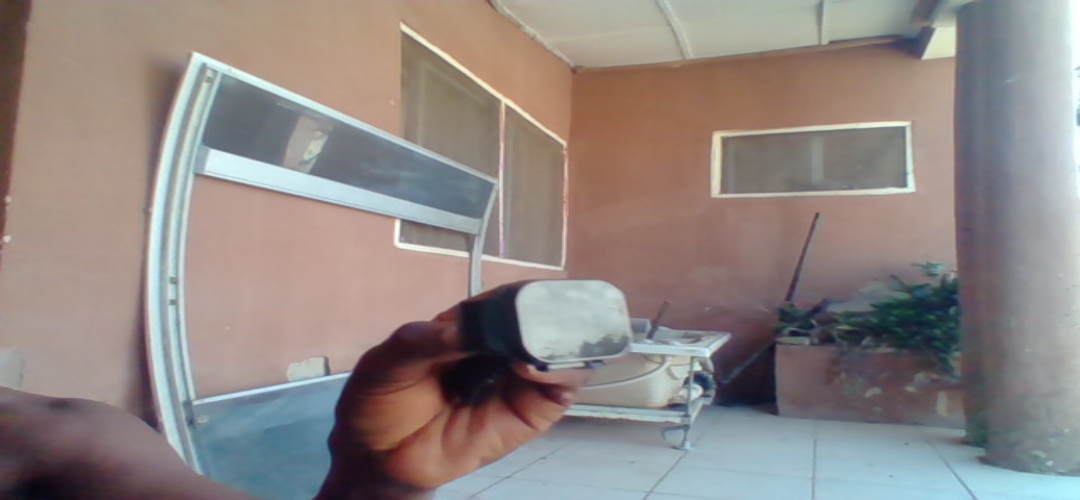smart_watch: (459, 274, 641, 372)
